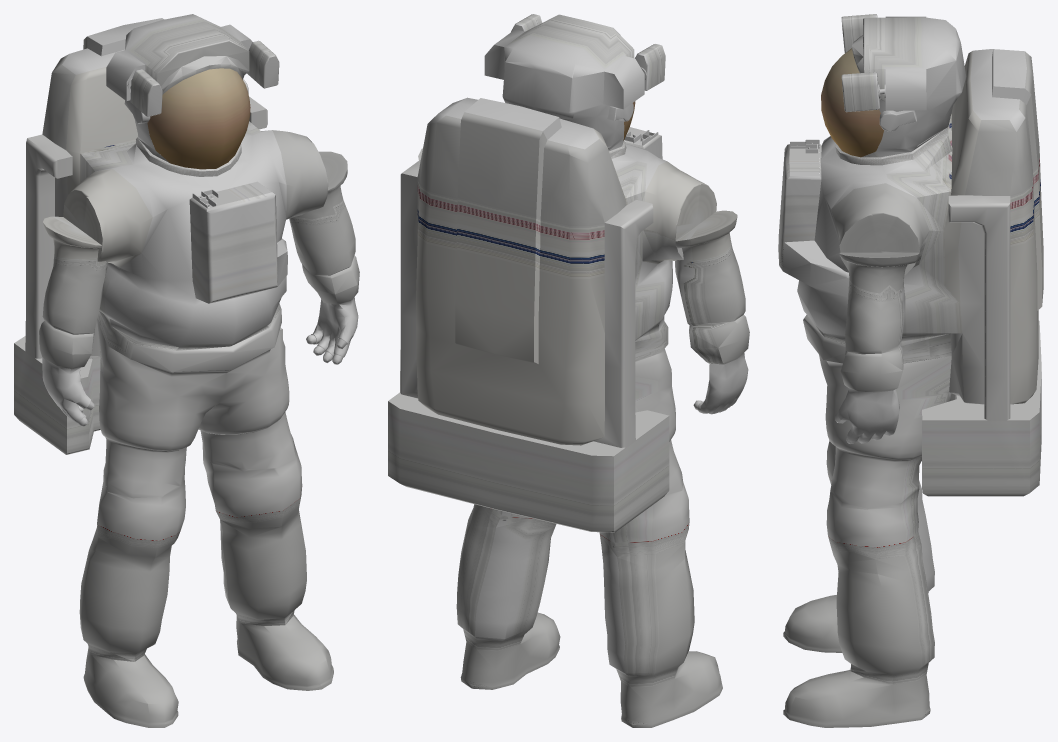
File: astronaut.glb
3 renders of one model, left to right at view 1: azimuth 30°, elevation 25°; view 2: azimuth 150°, elevation 25°; view 3: azimuth 270°, elevation 25°, orthographic. The views are drawn at different scales.
Visible parts, largest first — view 1: torso, leg_r, leg_l, head, arm_r, arm_l; view 2: torso, leg_r, leg_l, head, arm_r; view 3: torso, leg_l, head, arm_l, leg_r.
Boxes of the visible parts, box(x1,y1,x2,y2) form: torso: box(14, 18, 328, 498); leg_r: box(79, 471, 185, 727); leg_l: box(203, 447, 333, 690); head: box(106, 14, 279, 169); arm_r: box(39, 216, 107, 426); arm_l: box(289, 151, 359, 364); torso: box(388, 62, 716, 532); leg_r: box(599, 478, 722, 727); leg_l: box(456, 504, 560, 689); head: box(484, 14, 665, 147); arm_r: box(675, 210, 749, 414); torso: box(778, 30, 1043, 508); leg_l: box(783, 485, 934, 727); head: box(821, 14, 956, 157); arm_l: box(835, 252, 919, 443); leg_r: box(783, 440, 934, 652).
Bounding box in the file's own units: 0.9672 × 1.88 × 0.6987.
2 materials, 2 textured.
